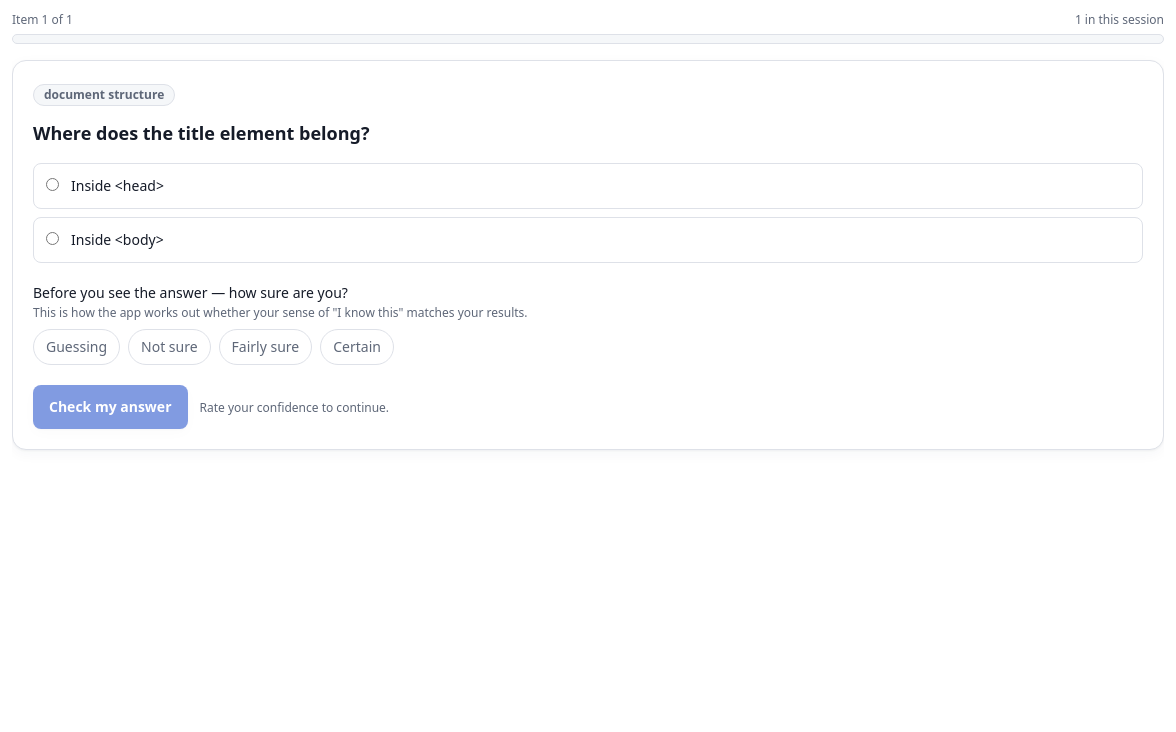
review session › asks for confidence before revealing anything, and requires it
Check: the button "Check my answer" is disabled, box [33,385,188,429]
Click the radio button labelled "Inside <head>".
click(52, 184)  # box [46,178,59,191]
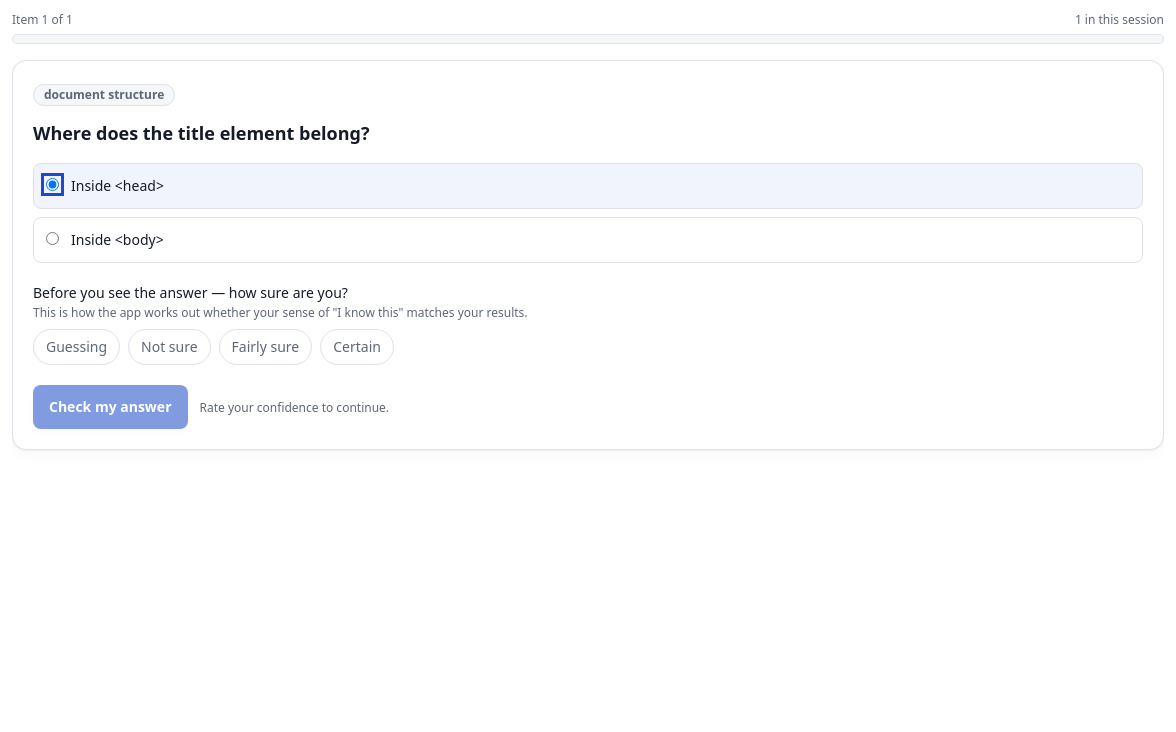
Check: the button "Check my answer" is disabled, box [33,385,188,429]
Click the radio button labelled "Certain".
click(357, 347)  # box [320,329,394,365]
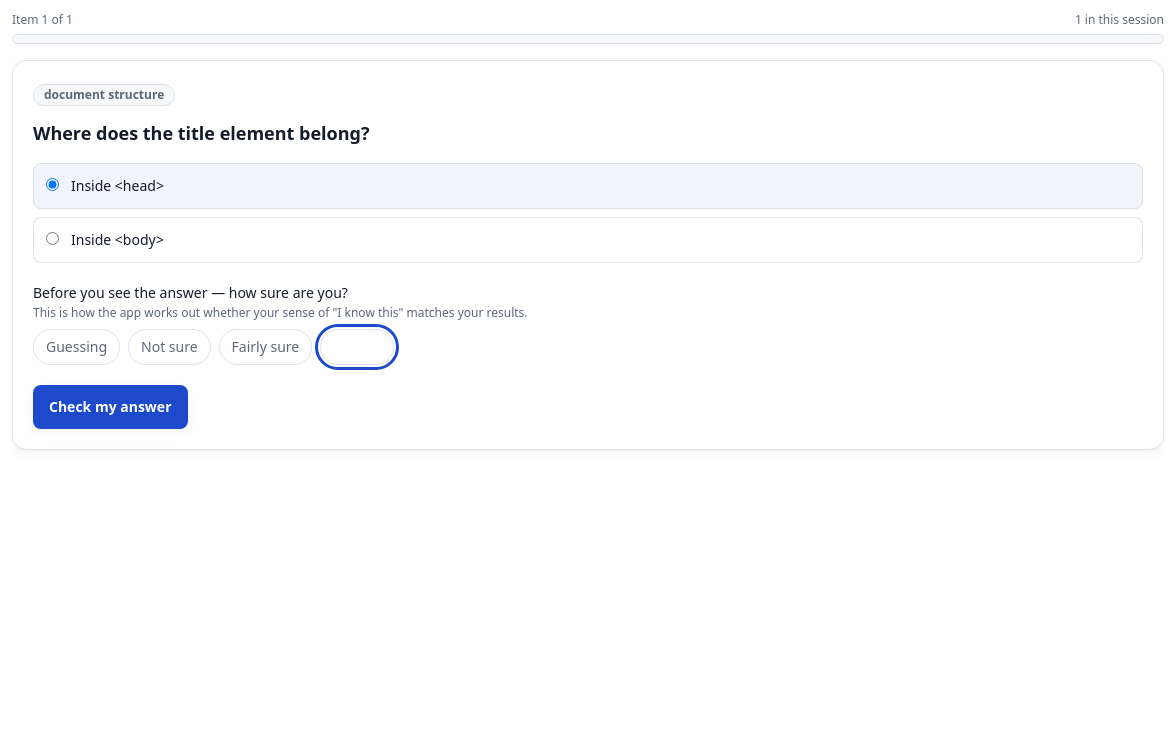
Check: the text "The title describes the page" is not shown
Check: the button "Check my answer" is enabled
Click the button "Check my answer".
click(110, 407)  # box [33,385,188,429]
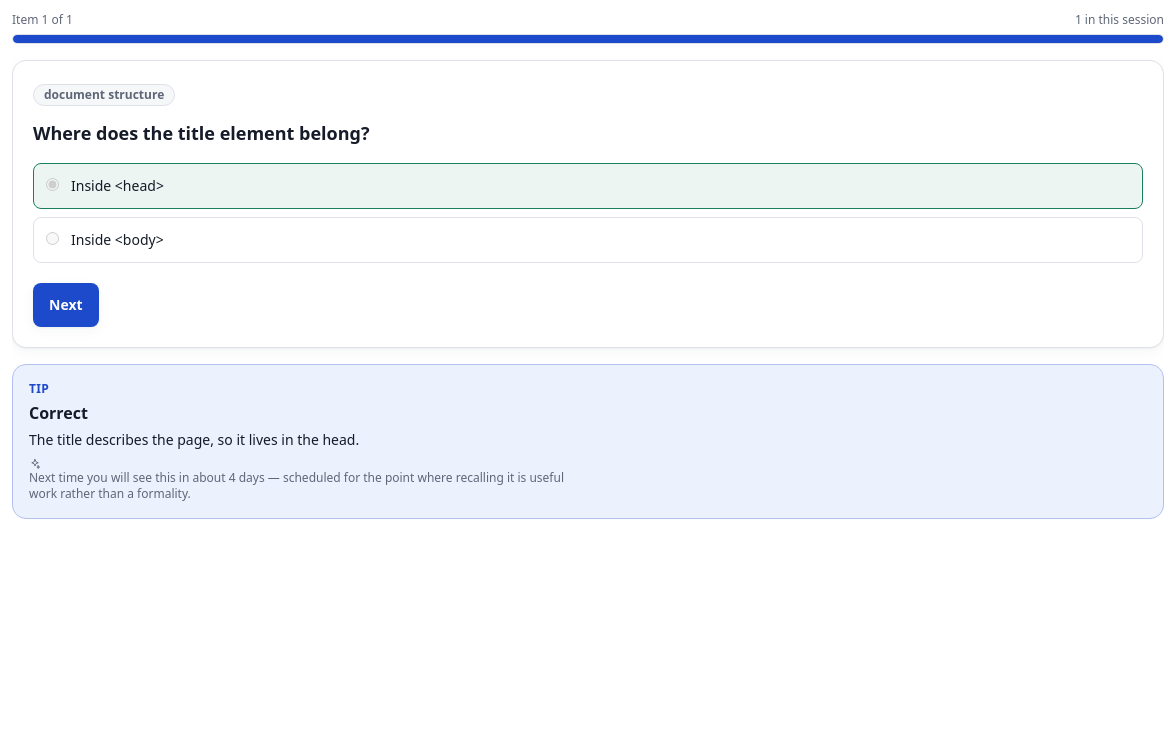
Check: the text "The title describes the page, so it lives in the head." is shown, box [29,430,359,449]
